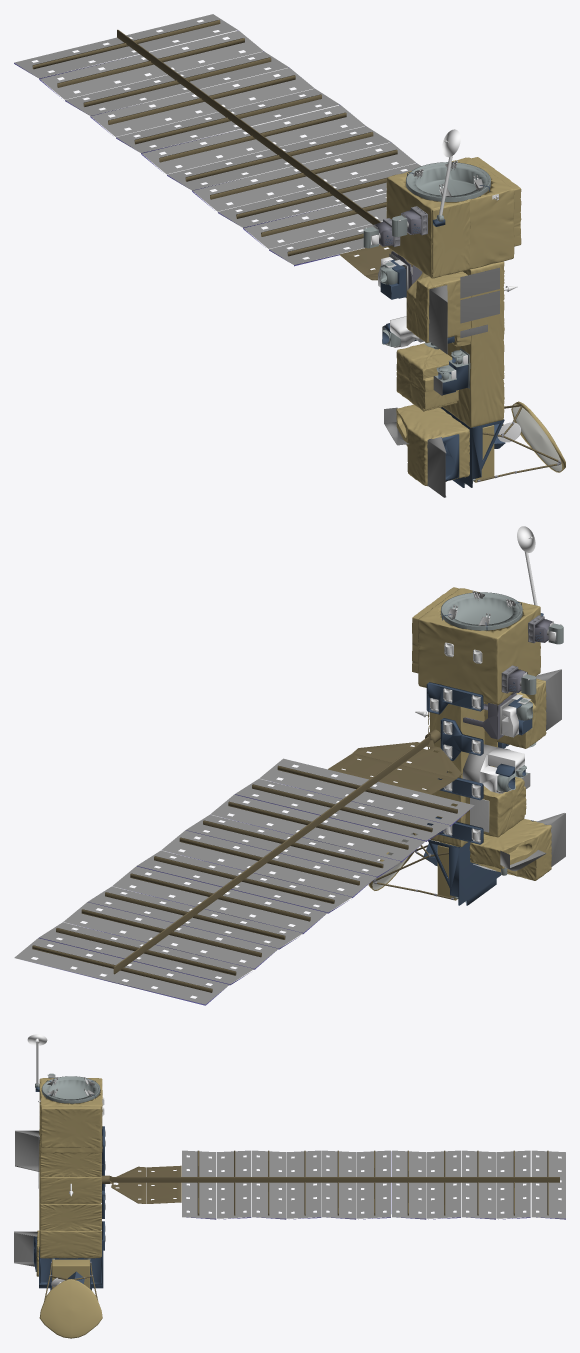
Rendered from Aqua (A).glb.
The picture shows the model from 3 angles, top to bottom: view 1: azimuth 30°, elevation 25°; view 2: azimuth 150°, elevation 25°; view 3: azimuth 270°, elevation 25°; orthographic projection. The views are drawn at different scales.
Visible parts, largest first — view 1: Aqua_Reduced_v0014 [Aqua_Layered_02 [Layer2]], Aqua_Reduced_v0014 [Aqua_Layered_02 [Layer3]], Aqua_Reduced_v0014 [Aqua_Layered_02 [Layer22]], Aqua_Reduced_v0014 [Aqua_Layered_02 [(unnamed)]], Aqua_Reduced_v0014 [Aqua_Layered_02 [Layer10]], Aqua_Reduced_v0014 [Aqua_Layered_02 [Layer9]], Aqua_Reduced_v0014 [Aqua_Layered_02 [Layer19]], Aqua_Reduced_v0014 [Aqua_Layered_02 [Layer20]], Aqua_Reduced_v0014 [Aqua_Layered_02 [Layer21]], Aqua_Reduced_v0014 [Aqua_Layered_02 [Layer14]], Aqua_Reduced_v0014 [Aqua_Layered_02 [Layer18]], Aqua_Reduced_v0014 [Aqua_Layered_02 [Layer16]] (+4 smaller); view 2: Aqua_Reduced_v0014 [Aqua_Layered_02 [Layer2]], Aqua_Reduced_v0014 [Aqua_Layered_02 [Layer3]], Aqua_Reduced_v0014 [Aqua_Layered_02 [Layer22]], Aqua_Reduced_v0014 [Aqua_Layered_02 [Layer9]], Aqua_Reduced_v0014 [Aqua_Layered_02 [Layer10]], Aqua_Reduced_v0014 [Aqua_Layered_02 [Layer19]], Aqua_Reduced_v0014 [Aqua_Layered_02 [Layer16]], Aqua_Reduced_v0014 [Aqua_Layered_02 [Layer4]], Aqua_Reduced_v0014 [Aqua_Layered_02 [Layer14]], Aqua_Reduced_v0014 [Aqua_Layered_02 [Layer17]], Aqua_Reduced_v0014 [Aqua_Layered_02 [(unnamed)]], Aqua_Reduced_v0014 [Aqua_Layered_02 [Layer20]] (+3 smaller); view 3: Aqua_Reduced_v0014 [Aqua_Layered_02 [Layer2]], Aqua_Reduced_v0014 [Aqua_Layered_02 [Layer23]], Aqua_Reduced_v0014 [Aqua_Layered_02 [Layer3]], Aqua_Reduced_v0014 [Aqua_Layered_02 [Layer22]], Aqua_Reduced_v0014 [Layer26], Aqua_Reduced_v0014 [Aqua_Layered_02 [Layer14]], Aqua_Reduced_v0014 [Aqua_Layered_02 [Layer9]], Aqua_Reduced_v0014 [Aqua_Layered_02 [Layer10]], Aqua_Reduced_v0014 [Layer24], Aqua_Reduced_v0014 [Aqua_Layered_02 [Layer16]], Aqua_Reduced_v0014 [Aqua_Layered_02 [(unnamed)]], Aqua_Reduced_v0014 [Aqua_Layered_02 [Layer4]].
Part boxes in pixels (x1=…): Aqua_Reduced_v0014 [Aqua_Layered_02 [Layer2]]: x1=14, y1=14, x2=421, y2=264; Aqua_Reduced_v0014 [Aqua_Layered_02 [Layer3]]: x1=32, y1=20, x2=422, y2=280; Aqua_Reduced_v0014 [Aqua_Layered_02 [Layer22]]: x1=386, y1=157, x2=521, y2=278; Aqua_Reduced_v0014 [Aqua_Layered_02 [(unnamed)]]: x1=429, y1=262, x2=503, y2=427; Aqua_Reduced_v0014 [Aqua_Layered_02 [Layer10]]: x1=363, y1=162, x2=490, y2=484; Aqua_Reduced_v0014 [Aqua_Layered_02 [Layer9]]: x1=380, y1=172, x2=505, y2=487; Aqua_Reduced_v0014 [Aqua_Layered_02 [Layer19]]: x1=396, y1=404, x2=469, y2=486; Aqua_Reduced_v0014 [Aqua_Layered_02 [Layer20]]: x1=396, y1=343, x2=458, y2=411; Aqua_Reduced_v0014 [Aqua_Layered_02 [Layer21]]: x1=406, y1=271, x2=471, y2=346; Aqua_Reduced_v0014 [Aqua_Layered_02 [Layer14]]: x1=384, y1=285, x2=447, y2=497; Aqua_Reduced_v0014 [Aqua_Layered_02 [Layer18]]: x1=460, y1=267, x2=499, y2=338; Aqua_Reduced_v0014 [Aqua_Layered_02 [Layer16]]: x1=371, y1=129, x2=521, y2=442; Aqua_Reduced_v0014 [Aqua_Layered_02 [Layer2]]: x1=14, y1=758, x2=474, y2=1004; Aqua_Reduced_v0014 [Aqua_Layered_02 [Layer3]]: x1=32, y1=729, x2=461, y2=992; Aqua_Reduced_v0014 [Aqua_Layered_02 [Layer22]]: x1=412, y1=587, x2=540, y2=704; Aqua_Reduced_v0014 [Aqua_Layered_02 [Layer9]]: x1=423, y1=602, x2=546, y2=905; Aqua_Reduced_v0014 [Aqua_Layered_02 [Layer10]]: x1=441, y1=592, x2=563, y2=901; Aqua_Reduced_v0014 [Aqua_Layered_02 [Layer19]]: x1=469, y1=819, x2=551, y2=880; Aqua_Reduced_v0014 [Aqua_Layered_02 [Layer16]]: x1=415, y1=526, x2=556, y2=842; Aqua_Reduced_v0014 [Aqua_Layered_02 [Layer4]]: x1=36, y1=783, x2=471, y2=1005; Aqua_Reduced_v0014 [Aqua_Layered_02 [Layer14]]: x1=500, y1=669, x2=565, y2=871; Aqua_Reduced_v0014 [Aqua_Layered_02 [Layer17]]: x1=430, y1=621, x2=561, y2=871; Aqua_Reduced_v0014 [Aqua_Layered_02 [(unnamed)]]: x1=430, y1=702, x2=494, y2=847; Aqua_Reduced_v0014 [Aqua_Layered_02 [Layer20]]: x1=465, y1=777, x2=526, y2=837; Aqua_Reduced_v0014 [Aqua_Layered_02 [Layer2]]: x1=182, y1=1150, x2=565, y2=1218; Aqua_Reduced_v0014 [Aqua_Layered_02 [Layer23]]: x1=40, y1=1150, x2=101, y2=1257; Aqua_Reduced_v0014 [Aqua_Layered_02 [Layer3]]: x1=101, y1=1150, x2=559, y2=1215; Aqua_Reduced_v0014 [Aqua_Layered_02 [Layer22]]: x1=39, y1=1078, x2=102, y2=1153; Aqua_Reduced_v0014 [Layer26]: x1=39, y1=1279, x2=102, y2=1338; Aqua_Reduced_v0014 [Aqua_Layered_02 [Layer14]]: x1=14, y1=1130, x2=39, y2=1266; Aqua_Reduced_v0014 [Aqua_Layered_02 [Layer9]]: x1=33, y1=1080, x2=104, y2=1290; Aqua_Reduced_v0014 [Aqua_Layered_02 [Layer10]]: x1=35, y1=1073, x2=100, y2=1261; Aqua_Reduced_v0014 [Layer24]: x1=52, y1=1259, x2=89, y2=1288; Aqua_Reduced_v0014 [Aqua_Layered_02 [Layer16]]: x1=27, y1=1034, x2=88, y2=1287; Aqua_Reduced_v0014 [Aqua_Layered_02 [(unnamed)]]: x1=39, y1=1139, x2=100, y2=1258; Aqua_Reduced_v0014 [Aqua_Layered_02 [Layer4]]: x1=186, y1=1151, x2=565, y2=1219.
Bounding box in the file's own units: 124 × 230 × 434.
